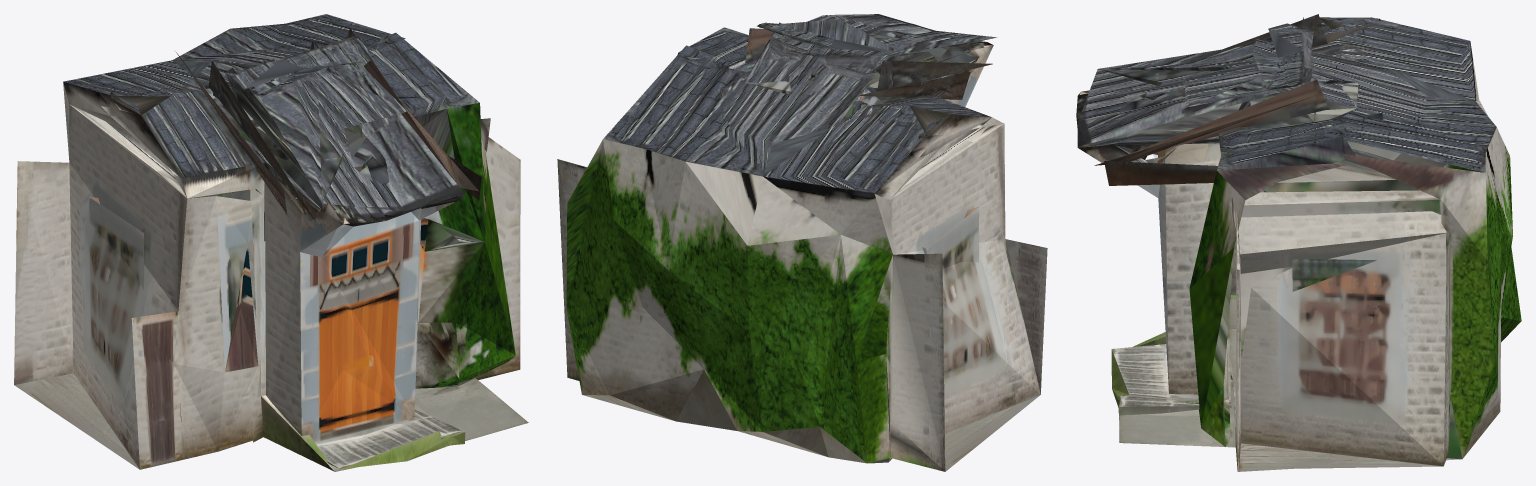
The model's file is Library_Ruin.fbx.
3 renders of one model, left to right at view 1: azimuth 30°, elevation 25°; view 2: azimuth 150°, elevation 25°; view 3: azimuth 270°, elevation 25°, orthographic. The views are drawn at different scales.
Visible parts, largest first — view 1: Mesh_0; view 2: Mesh_0; view 3: Mesh_0.
Part boxes in pixels (bbox=[...]): Mesh_0: bbox=[14, 14, 528, 471]; Mesh_0: bbox=[557, 14, 1047, 471]; Mesh_0: bbox=[1076, 14, 1521, 471].
Bounding box in the file's own units: 600 × 500 × 600.
Materials: 1 (1 with a texture image).
